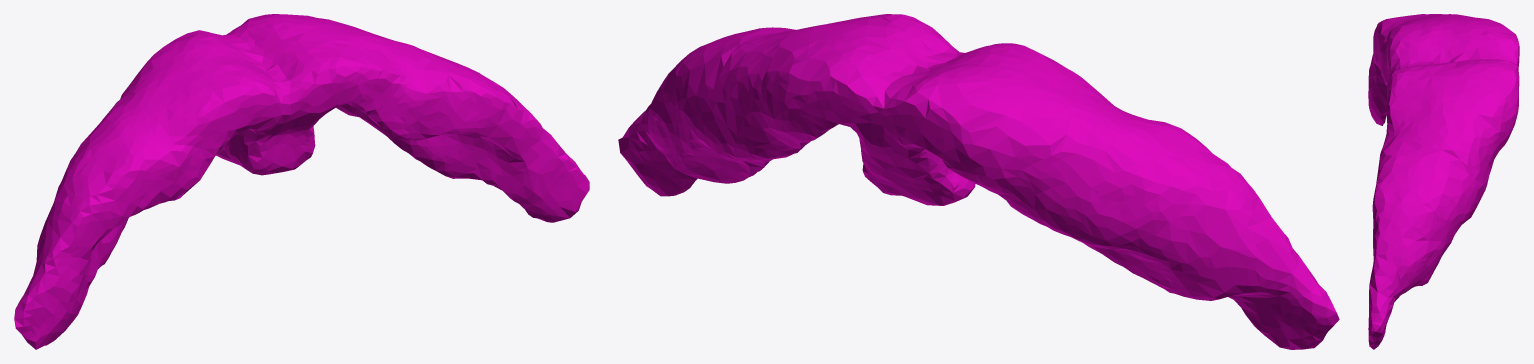
The model's file is 199-4-area 4 of cortex (primary motor)-('1.0000', '0.0000', '0.8431').obj.
The picture shows the model from 3 angles, left to right: view 1: azimuth 30°, elevation 25°; view 2: azimuth 150°, elevation 25°; view 3: azimuth 270°, elevation 25°; orthographic projection. The views are drawn at different scales.
Size of the model in its own units: 294 by 103 by 74.66.
